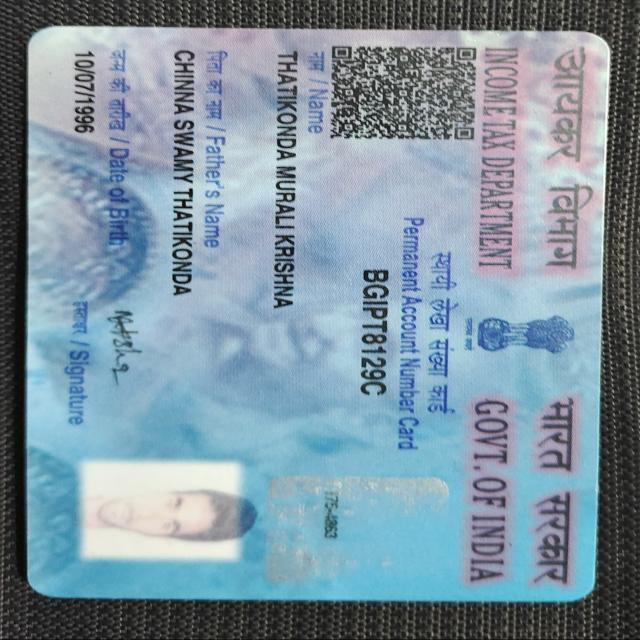pan_card: (26, 28, 608, 601)
